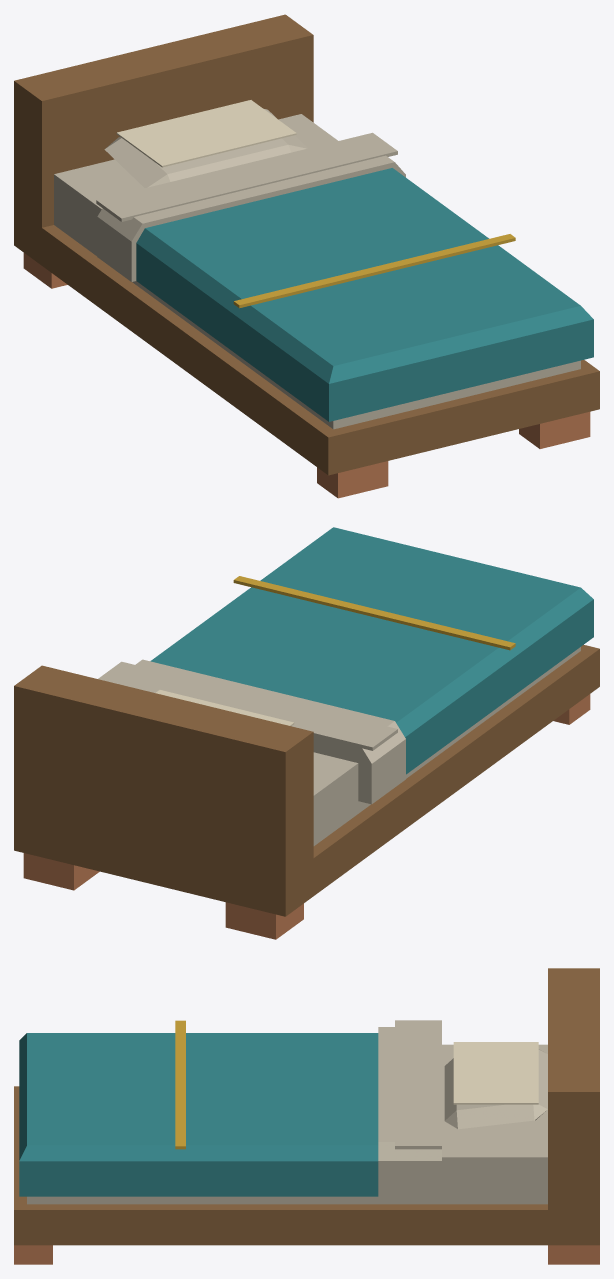
Rendered from bedSingle.glb.
3 views of the same model, one above another, from view 1: azimuth 30°, elevation 25°; view 2: azimuth 150°, elevation 25°; view 3: azimuth 270°, elevation 25° (orthographic). The views are drawn at different scales.
Parts seen in each view (by area): view 1: cover, bedSingle(Clone), pillow; view 2: bedSingle(Clone), cover, pillow; view 3: cover, bedSingle(Clone), pillow.
Boxes of the visible parts, x1,y1,x2,y2 form: cover: (96, 132, 593, 421); bedSingle(Clone): (14, 14, 599, 498); pillow: (104, 100, 307, 187); bedSingle(Clone): (14, 645, 599, 939); cover: (98, 527, 593, 804); pillow: (155, 690, 294, 726); cover: (19, 1020, 441, 1198); bedSingle(Clone): (14, 968, 599, 1264); pillow: (444, 1042, 547, 1129).
Bounding box in the file's own units: 0.571 × 0.375 × 1.12.
